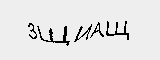А: (90, 19, 105, 37)
З: (25, 21, 38, 42)
И: (74, 21, 92, 44)
Щ: (36, 23, 71, 48), (105, 18, 132, 41)
